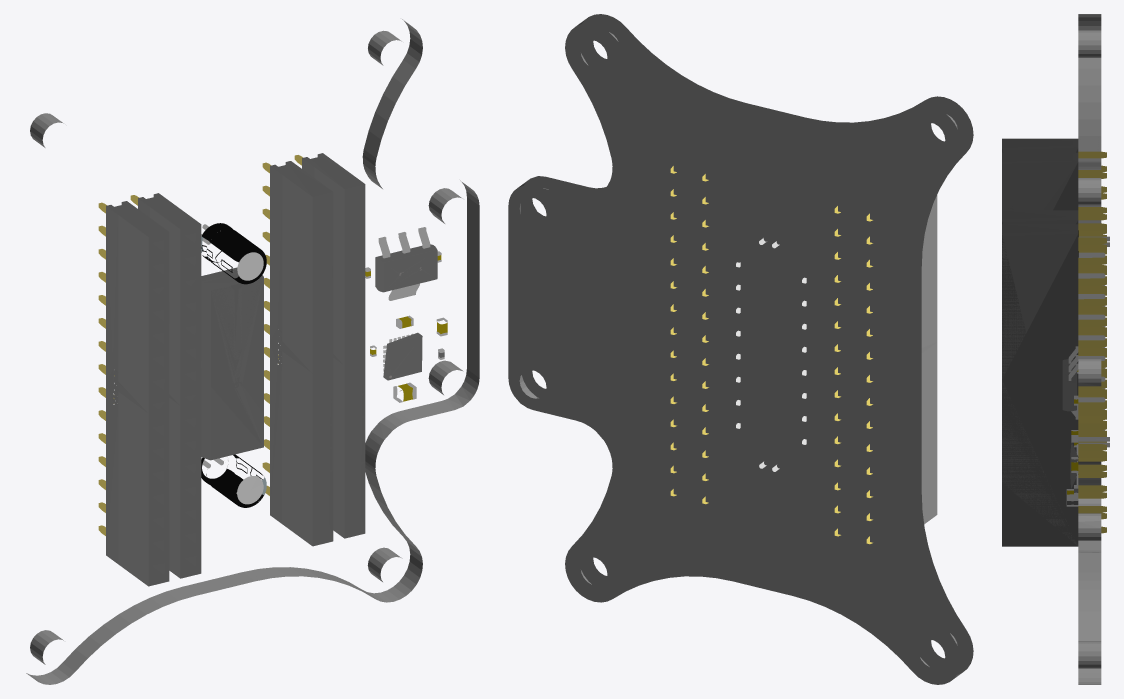
File: pcb.gltf
3 renders of one model, left to right at view 1: azimuth 30°, elevation 25°; view 2: azimuth 150°, elevation 25°; view 3: azimuth 270°, elevation 25°, orthographic. The views are drawn at different scales.
Bounding box in the file's own units: 205 × 251 × 47.24.
